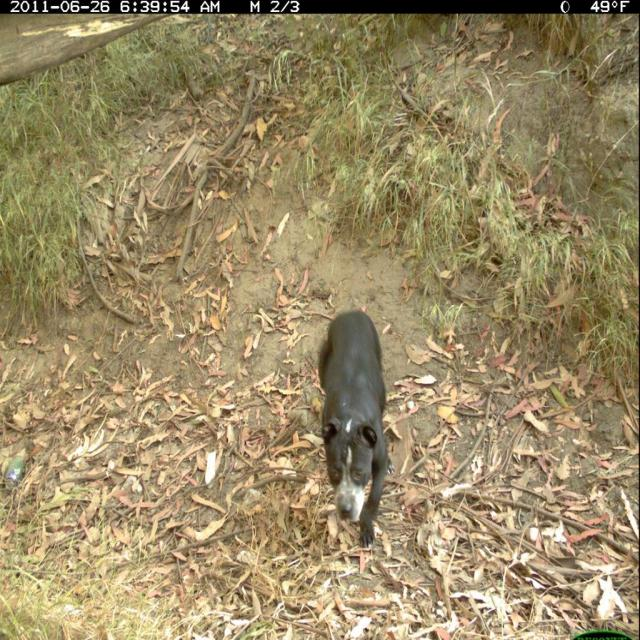dog: (308, 287, 405, 560)
